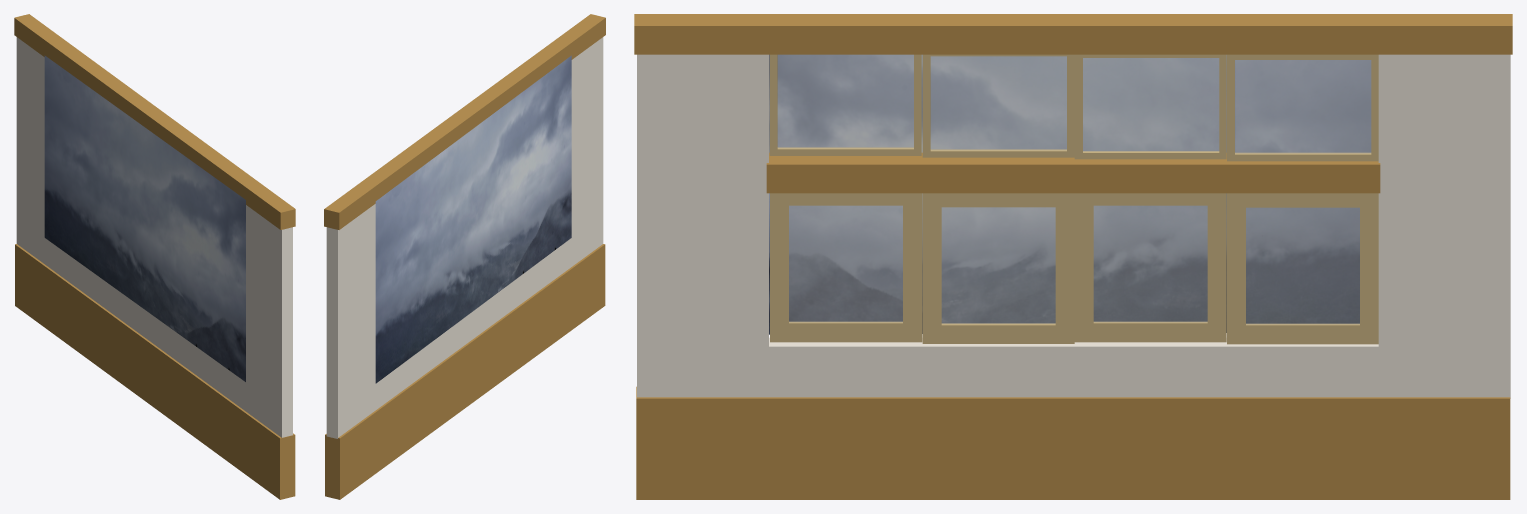
File: 教室壁.fbx
The picture shows the model from 3 angles, left to right: view 1: azimuth 30°, elevation 25°; view 2: azimuth 150°, elevation 25°; view 3: azimuth 270°, elevation 25°; orthographic projection. The views are drawn at different scales.
Parts seen in each view (by area): view 1: 平面, 02, 壁上02, 上の窓枠.001, 壁上01, 壁上01.001; view 2: 平面, 02, 壁上01, 上の窓枠.001, 壁上02, 壁上01.001; view 3: 平面, 02, 壁上01, 壁上02, 上の窓枠.001, 壁上01.001, 上の窓枠, 窓01, 窓03, 窓04, 窓02, 上窓ガラス (+11 smaller).
Boxes of the visible parts, <box> form: 平面: <box>44,55,245,381</box>; 02: <box>15,244,295,499</box>; 壁上02: <box>241,205,292,437</box>; 上の窓枠.001: <box>14,14,295,229</box>; 壁上01: <box>16,37,56,272</box>; 壁上01.001: <box>56,246,241,407</box>; 平面: <box>375,55,571,383</box>; 02: <box>325,244,605,499</box>; 壁上01: <box>326,204,377,438</box>; 上の窓枠.001: <box>324,14,605,229</box>; 壁上02: <box>563,37,603,272</box>; 壁上01.001: <box>378,244,563,408</box>; 平面: <box>769,54,1371,334</box>; 02: <box>636,386,1510,499</box>; 壁上01: <box>1378,54,1510,398</box>; 壁上02: <box>637,54,768,397</box>; 上の窓枠.001: <box>634,14,1512,54</box>; 壁上01.001: <box>769,337,1378,397</box>; 上の窓枠: <box>766,152,1380,193</box>; 窓01: <box>1246,208,1359,324</box>; 窓03: <box>942,207,1055,323</box>; 窓04: <box>789,206,902,322</box>; 窓02: <box>1094,206,1207,322</box>; 上窓ガラス: <box>1235,60,1370,153</box>.
Bounding box in the file's own units: 0.5213 × 7.92 × 13.31.
